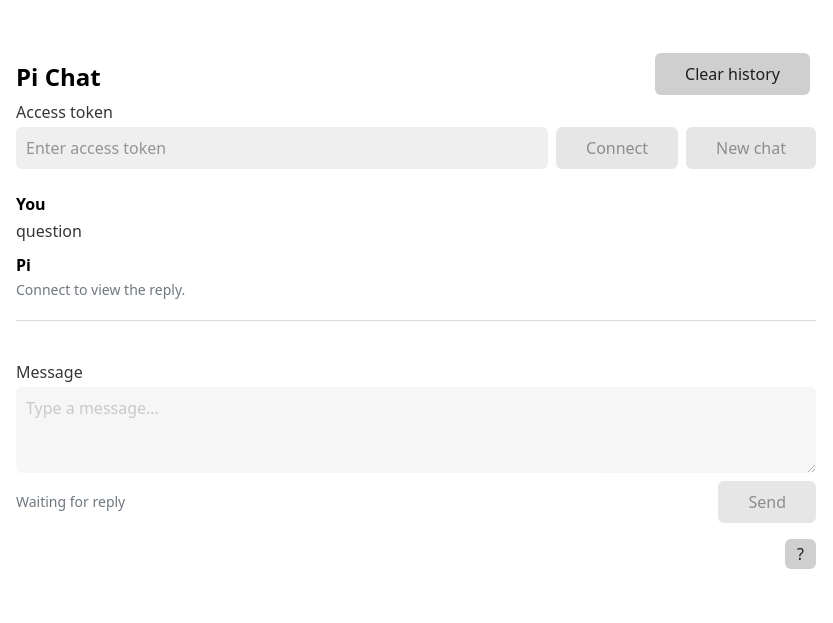
Test: Svelte live chat › treats a 409 result as unfinished and keeps the composer locked until frozen output arrives
The image size is (833, 623).
Type "private-token" into the password field labelled "Access token" at [282, 148], box top-left (16, 127), bottom-right (548, 169)
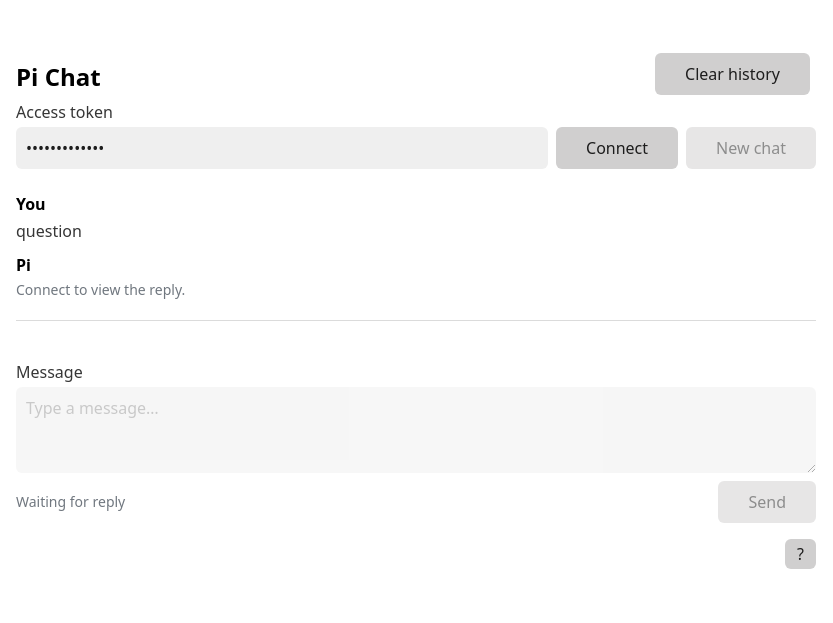
Click the button "Connect" at [617, 148], box top-left (556, 127), bottom-right (678, 169)
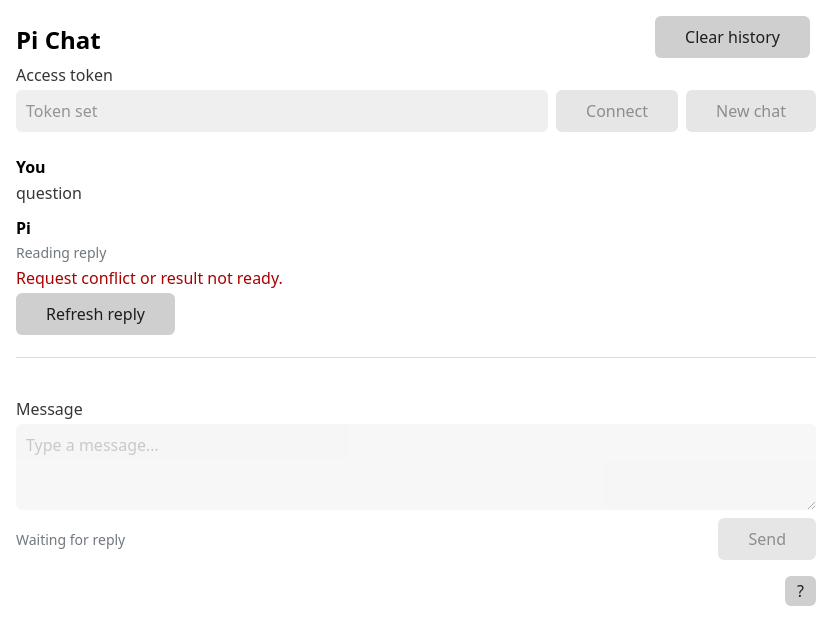
Expected: the text box labelled "Message" is disabled, top-left (16, 424), bottom-right (816, 510)
Now the text "Request conflict or result not ready." is shown, box top-left (16, 267), bottom-right (283, 289)
Click the button "Refresh reply" at [96, 314], box top-left (16, 293), bottom-right (175, 335)
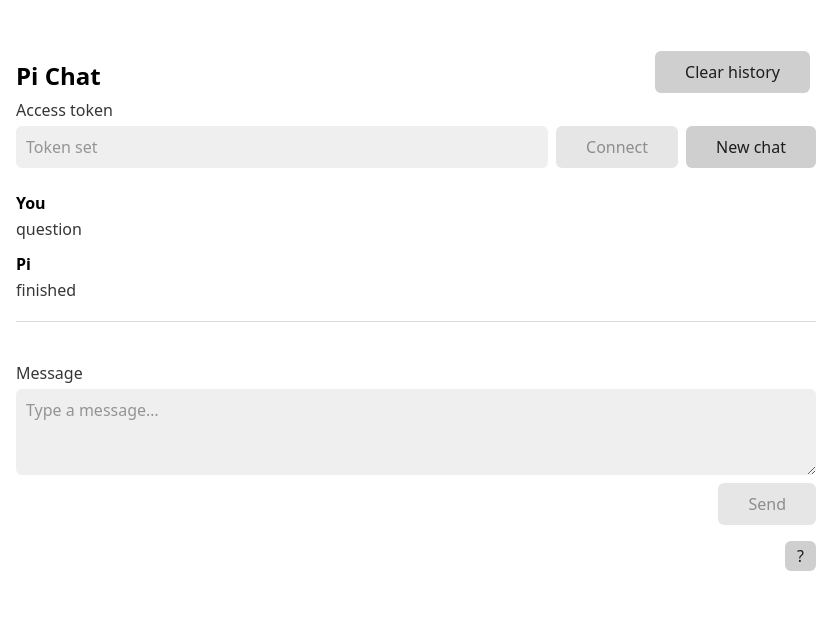
Now the text "finished" is shown, box top-left (16, 279), bottom-right (76, 301)
Now the text box labelled "Message" is enabled, box top-left (16, 389), bottom-right (816, 475)
